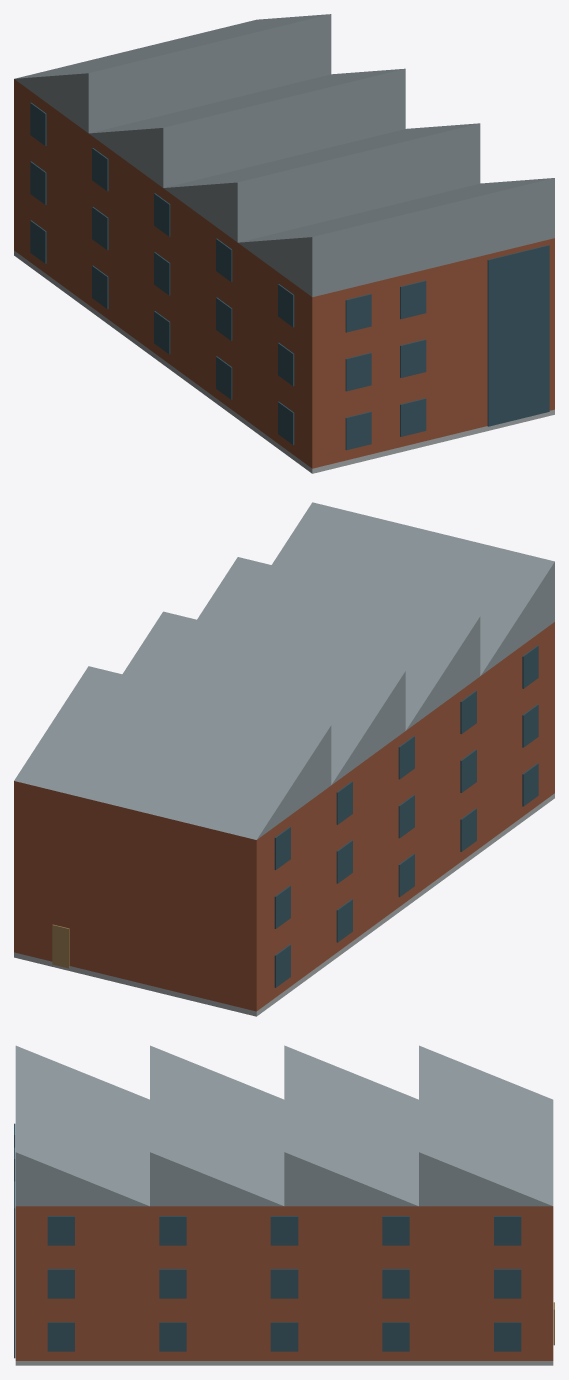
Rendered from warehouse-converted.glb.
3 renders of one model, top to bottom at view 1: azimuth 30°, elevation 25°; view 2: azimuth 150°, elevation 25°; view 3: azimuth 270°, elevation 25°, orthographic. The views are drawn at different scales.
Visible parts, largest first — view 1: wall-envelope, roof-sawtooth-01, roof-sawtooth-03, roof-sawtooth-02, roof-sawtooth-04, opening-front-glazed-end, ground-contact-plinth, opening-front-industrial-03-02, opening-front-industrial-01-01, opening-front-industrial-02-01, opening-front-industrial-02-02, opening-front-industrial-03-01 (+16 smaller); view 2: wall-envelope, roof-sawtooth-01, roof-sawtooth-03, roof-sawtooth-04, roof-sawtooth-02, ground-contact-plinth, opening-rear-service; view 3: wall-envelope, roof-sawtooth-04, roof-sawtooth-02, roof-sawtooth-03, roof-sawtooth-01, ground-contact-plinth, opening-east-industrial-01-03, opening-east-industrial-02-03, opening-east-industrial-03-03, opening-east-industrial-01-01, opening-east-industrial-01-02, opening-east-industrial-01-04 (+9 smaller).
Part boxes in pixels (<box>): wall-envelope: <box>14,79,554,468</box>; roof-sawtooth-01: <box>14,14,331,133</box>; roof-sawtooth-03: <box>163,123,480,242</box>; roof-sawtooth-02: <box>89,68,405,187</box>; roof-sawtooth-04: <box>238,178,554,297</box>; opening-front-glazed-end: <box>487,245,549,426</box>; ground-contact-plinth: <box>14,250,554,473</box>; opening-front-industrial-03-02: <box>400,280,426,319</box>; opening-front-industrial-01-01: <box>345,411,371,450</box>; opening-front-industrial-02-01: <box>345,352,371,391</box>; opening-front-industrial-02-02: <box>400,339,426,377</box>; opening-front-industrial-03-01: <box>345,294,371,332</box>; wall-envelope: <box>14,622,554,1011</box>; roof-sawtooth-01: <box>14,666,331,839</box>; roof-sawtooth-03: <box>197,557,480,730</box>; roof-sawtooth-04: <box>272,502,554,675</box>; roof-sawtooth-02: <box>122,611,405,784</box>; ground-contact-plinth: <box>14,793,554,1016</box>; opening-rear-service: <box>52,924,69,968</box>; wall-envelope: <box>15,1206,553,1360</box>; roof-sawtooth-04: <box>15,1045,149,1206</box>; roof-sawtooth-02: <box>284,1045,418,1206</box>; roof-sawtooth-03: <box>150,1045,284,1206</box>; roof-sawtooth-01: <box>419,1045,553,1206</box>; ground-contact-plinth: <box>15,1361,553,1365</box>; opening-east-industrial-01-03: <box>270,1322,298,1351</box>; opening-east-industrial-02-03: <box>270,1269,298,1298</box>; opening-east-industrial-03-03: <box>270,1216,298,1245</box>; opening-east-industrial-01-01: <box>494,1322,521,1351</box>; opening-east-industrial-01-02: <box>382,1322,409,1351</box>; opening-east-industrial-01-04: <box>159,1322,186,1351</box>.
Bounding box in the file's own units: 13.97 × 12.87 × 29.58.
